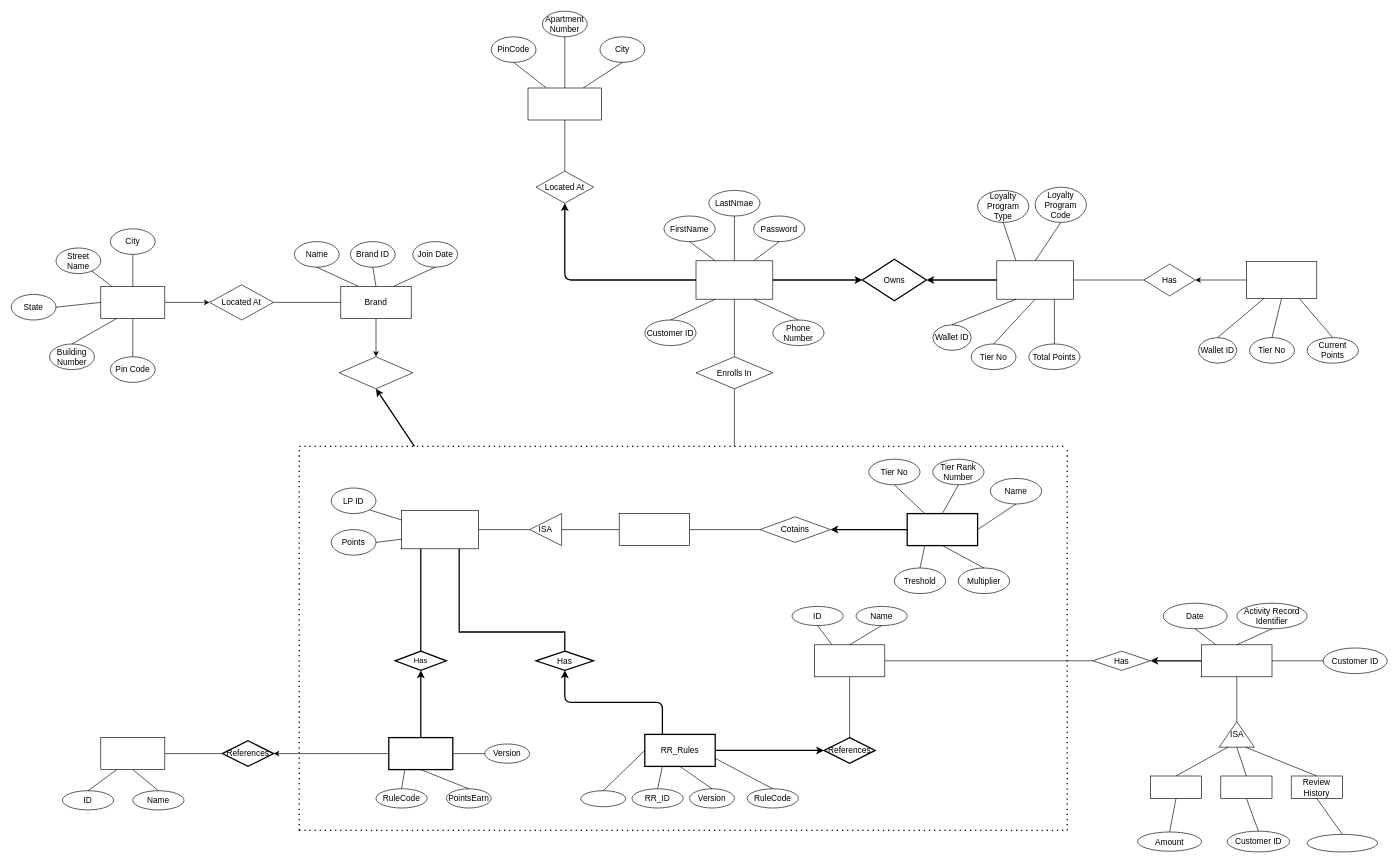
Some shapes in this 1398 by 863 pixel diagram are drawn without their labels. Here are the shapes that lost their labels. From the top down, the box of each, then its label:
(527, 87, 602, 120): Customer Adress
(695, 260, 773, 299): Customers
(996, 260, 1074, 299): Wallet
(1246, 261, 1317, 298): Wallet Tier Info
(100, 286, 165, 318): Brand Adress
(339, 356, 413, 389): Manages
(401, 510, 478, 549): Loyalty Program
(619, 513, 690, 546): Tiered
(906, 513, 978, 546): Tier Info
(814, 644, 885, 677): Rewards
(1201, 644, 1272, 677): Activity History
(100, 737, 165, 770): Activity Type
(388, 737, 453, 770): ER_Rules
(580, 790, 626, 807): PointReq
(1150, 775, 1202, 798): Perchase History
(1220, 775, 1272, 798): Refer History
(1307, 834, 1378, 852): Review Content
